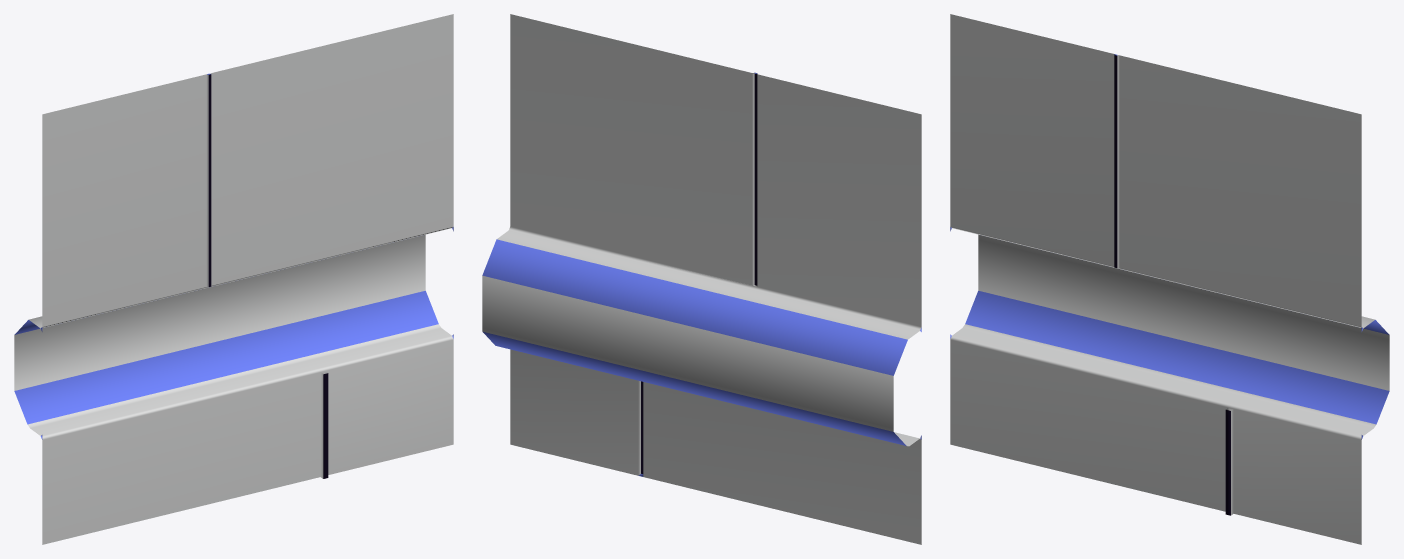
File: fwn_test.fbx
3 views of the same model, side by side, from view 1: azimuth 30°, elevation 25°; view 2: azimuth 150°, elevation 25°; view 3: azimuth 330°, elevation 25° (orthographic).
Visible parts, largest first — view 1: Plane; view 2: Plane; view 3: Plane.
Boxes of the visible parts, x1=… form: Plane: x1=14, y1=14, x2=453, y2=544; Plane: x1=482, y1=14, x2=921, y2=544; Plane: x1=950, y1=14, x2=1389, y2=544.
Bounding box in the file's own units: 200 × 200 × 25.89.
